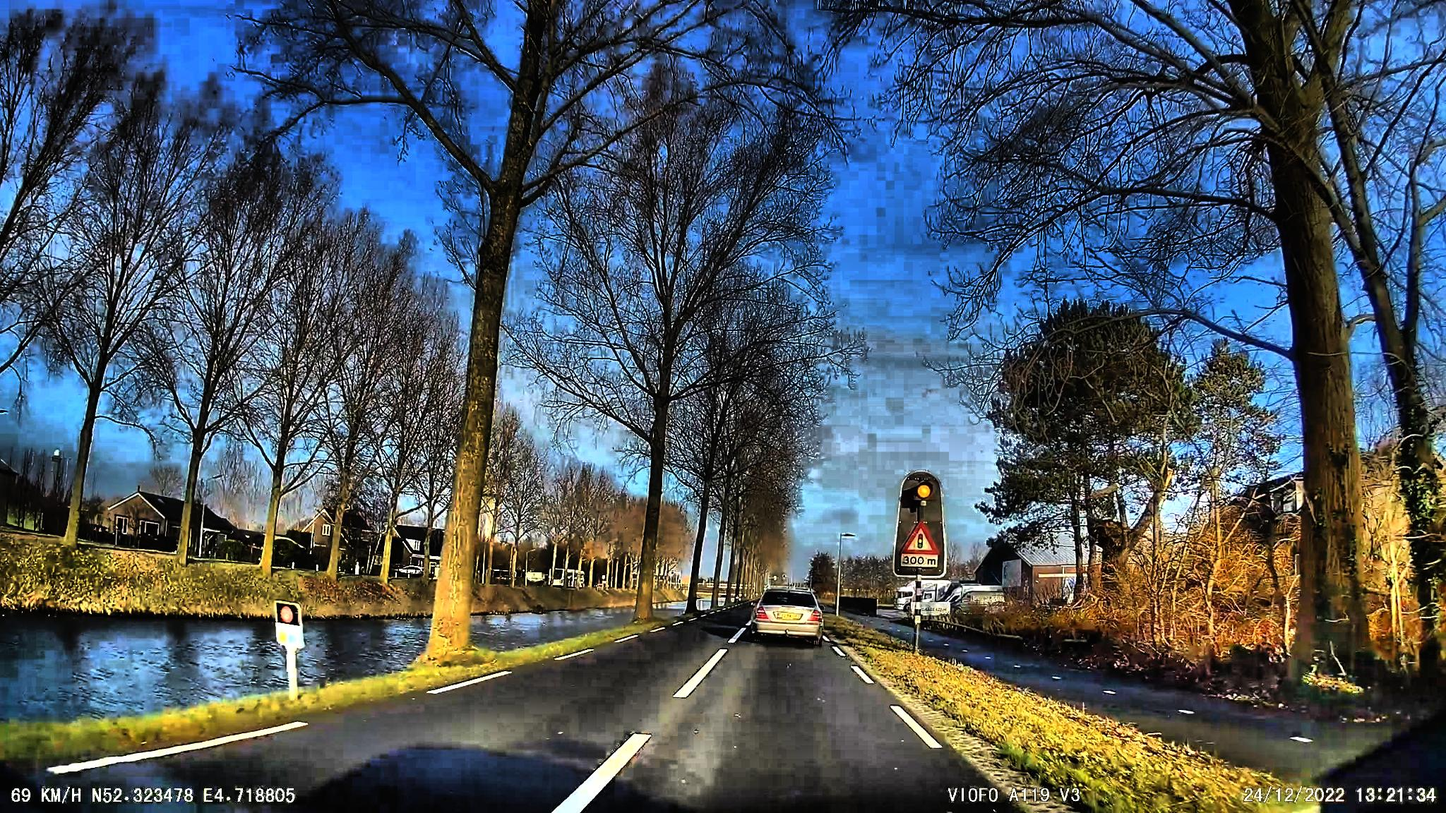Roads: (0, 602, 1065, 813)
